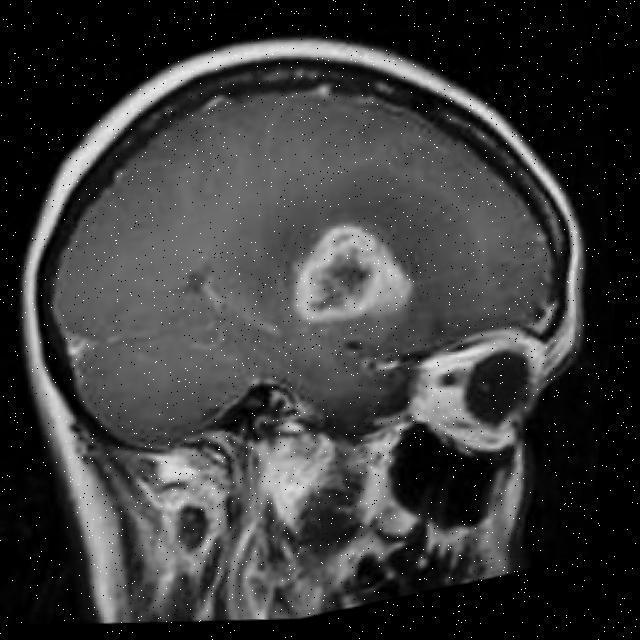MCI: (276, 168, 457, 328)
